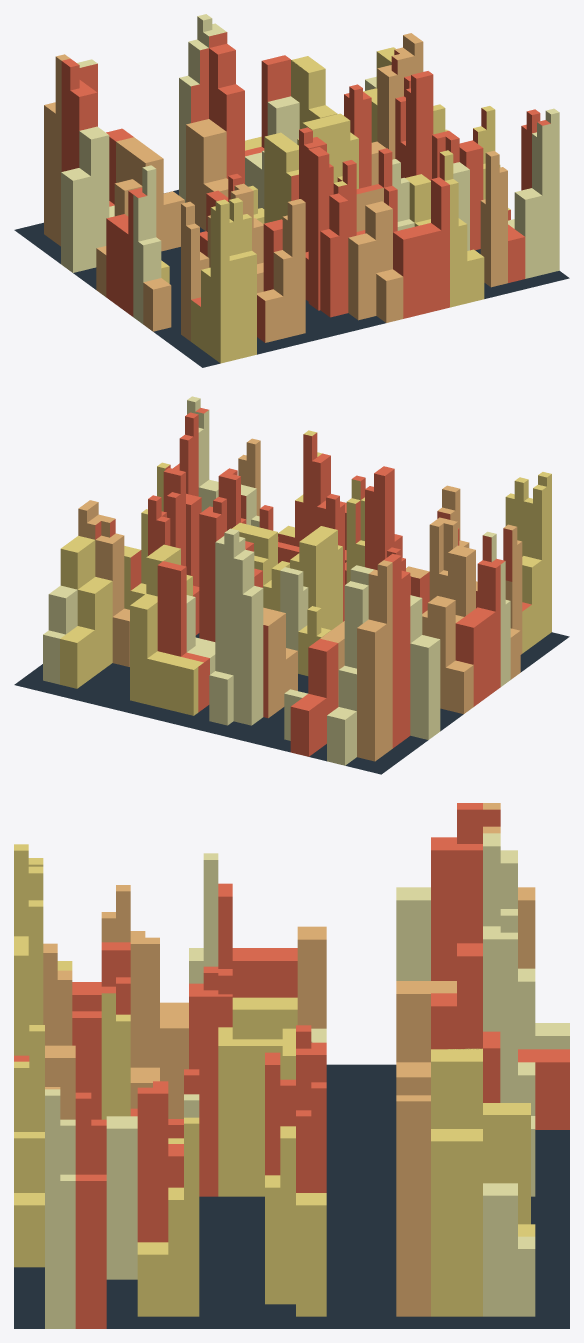
The model's file is citynew.fbx.
3 views of the same model, one above another, from view 1: azimuth 30°, elevation 25°; view 2: azimuth 150°, elevation 25°; view 3: azimuth 270°, elevation 25° (orthographic). The views are drawn at different scales.
Parts seen in each view (by area): view 1: Plane, Plane.001; view 2: Plane, Plane.001; view 3: Plane, Plane.001.
Boxes of the visible parts, box(x1,y1,x2,y2) form: Plane: box(44, 14, 559, 363); Plane.001: box(14, 189, 569, 367); Plane: box(43, 396, 551, 765); Plane.001: box(14, 632, 569, 774); Plane: box(14, 803, 569, 1328); Plane.001: box(14, 1064, 569, 1328).
Size of the model in its own units: 6336 by 3069 by 5632.
